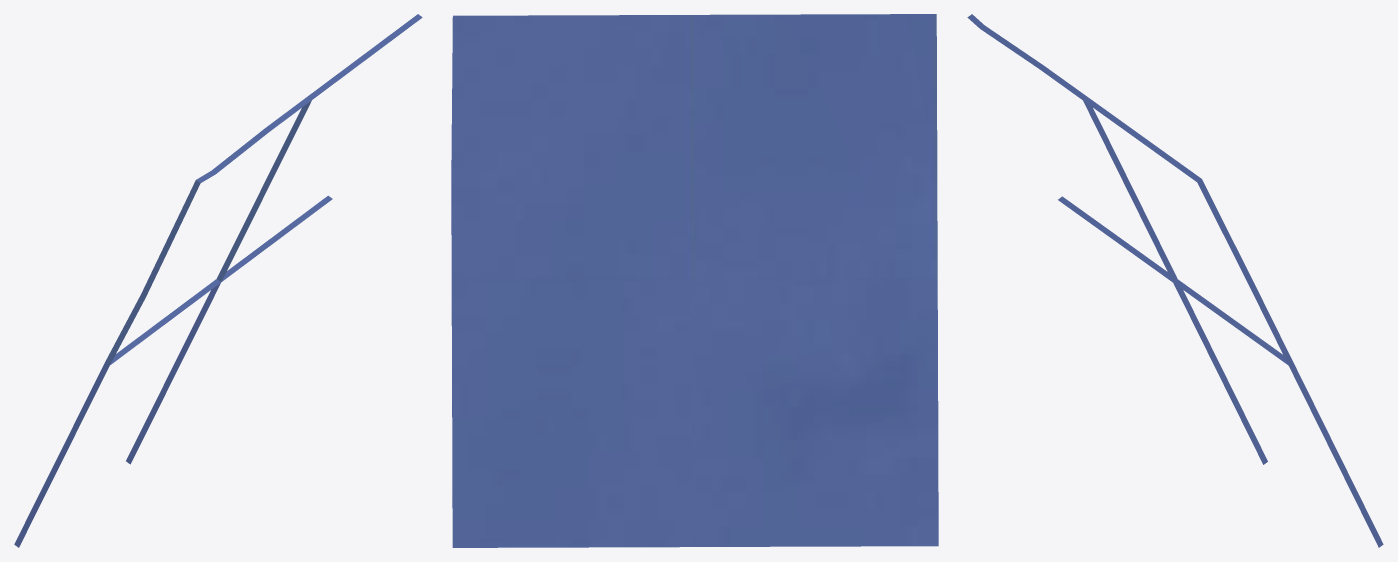
3 views of the same model, side by side, from view 1: azimuth 30°, elevation 25°; view 2: azimuth 150°, elevation 25°; view 3: azimuth 270°, elevation 25° (orthographic). The views are drawn at different scales.
Bounding box in the file's own units: 19652 × 17886 × 16377.
Materials: 1 (1 with a texture image).
